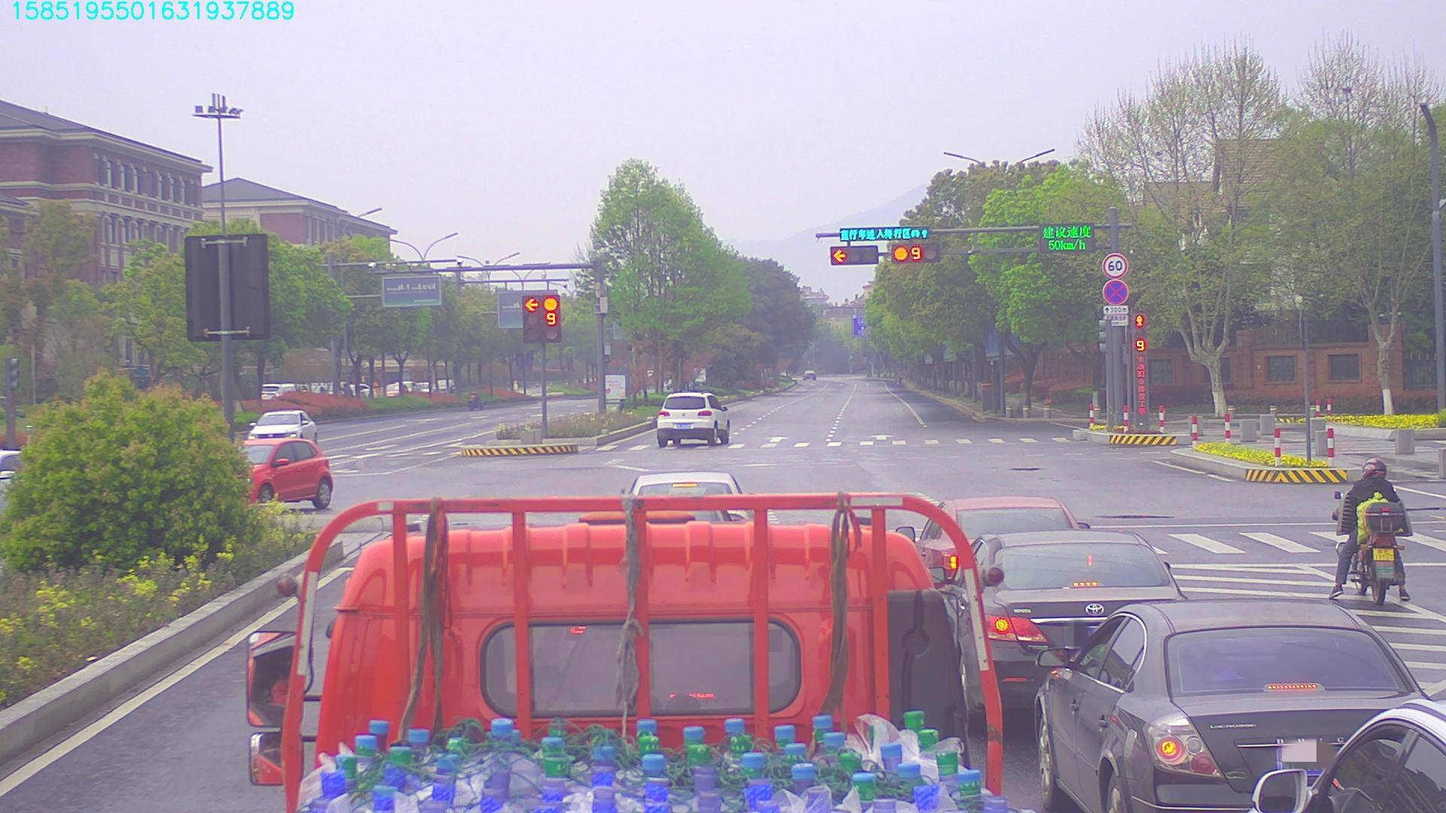red: (888, 242, 935, 263), (828, 244, 873, 264)
wait_on: (841, 227, 930, 237)
